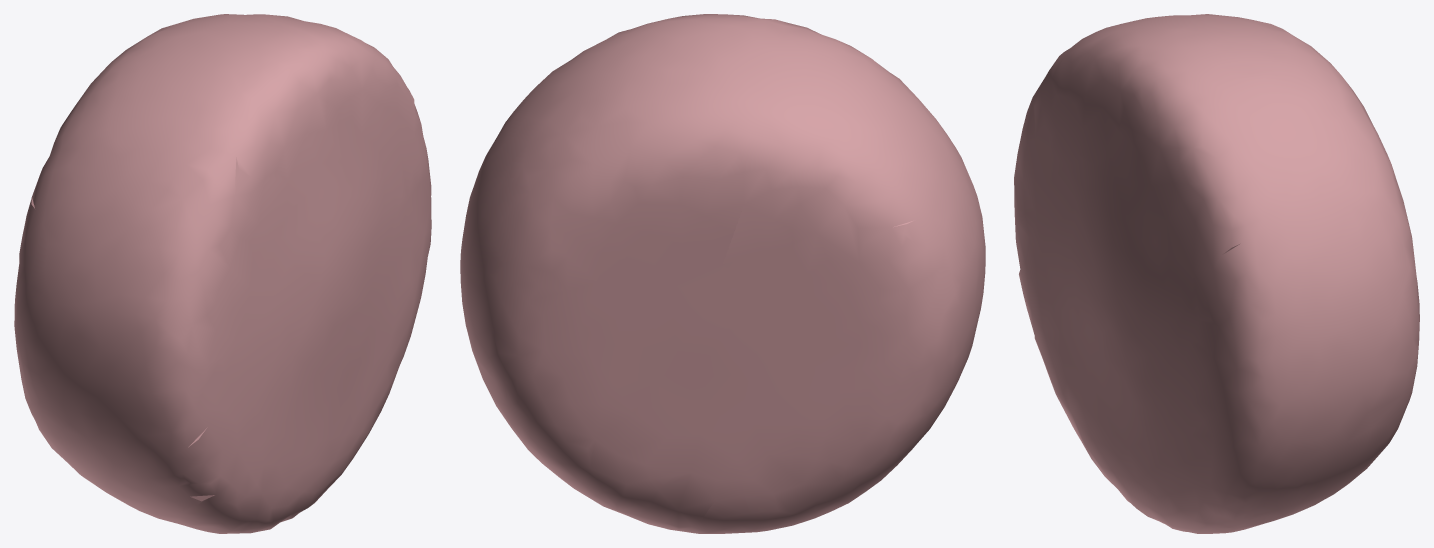
Rendered from fma58636_mm2188.glb.
3 views of the same model, side by side, from view 1: azimuth 30°, elevation 25°; view 2: azimuth 150°, elevation 25°; view 3: azimuth 270°, elevation 25° (orthographic).
Visible parts, largest first — view 1: FMA58636_MM2188; view 2: FMA58636_MM2188; view 3: FMA58636_MM2188.
Boxes of the visible parts, left/top/right/bottom form: FMA58636_MM2188: left=14, top=14, right=431, bottom=533; FMA58636_MM2188: left=460, top=14, right=985, bottom=533; FMA58636_MM2188: left=1014, top=14, right=1419, bottom=533.
Size of the model in its own units: 0.00194 by 0.00198 by 0.00155.
